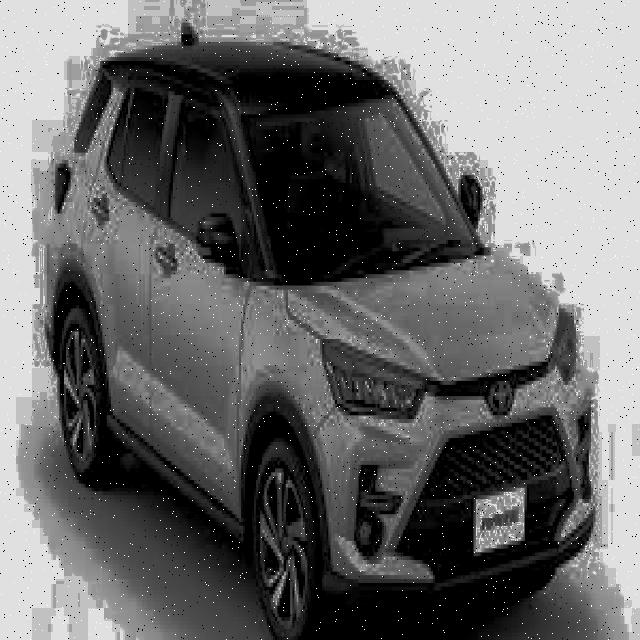Car: (50, 14, 640, 640)
